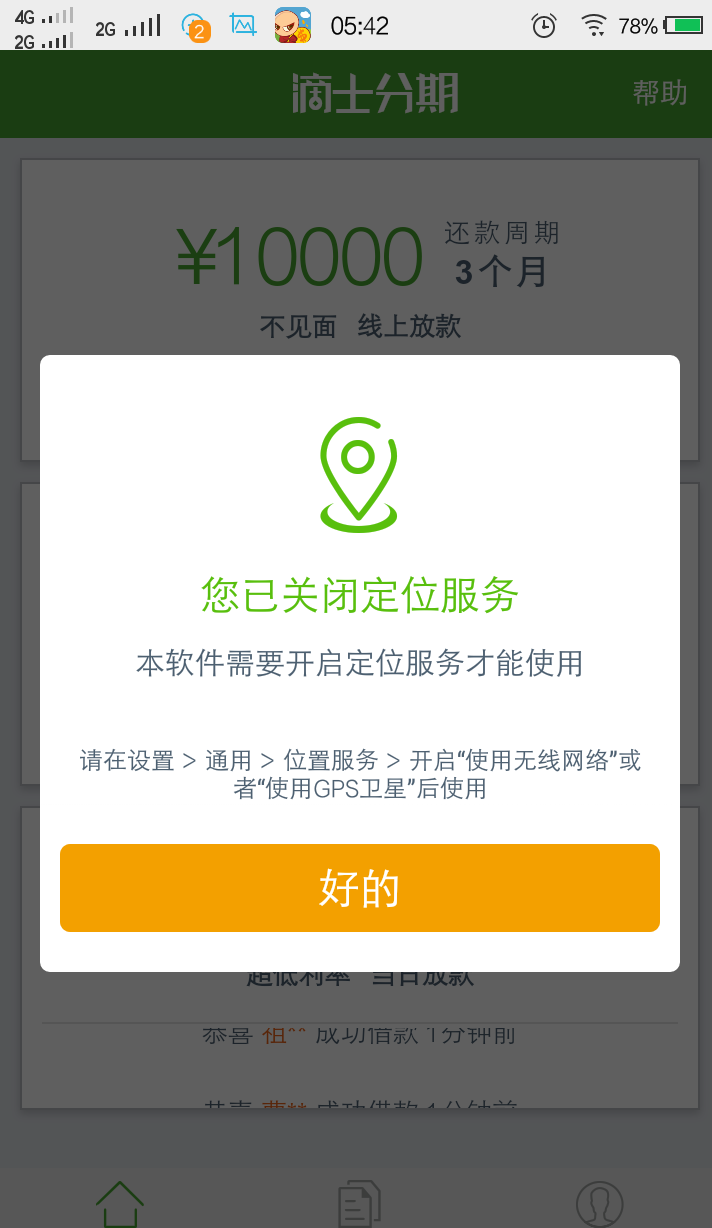alert: (33, 347, 691, 986)
button: (52, 836, 669, 949)
imgview: (174, 398, 541, 636)
textview: (59, 727, 663, 816), (56, 640, 654, 693)
